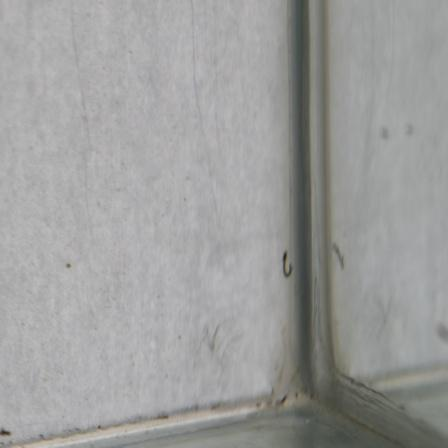Jentik-Nyamuk: (279, 247, 299, 278)
